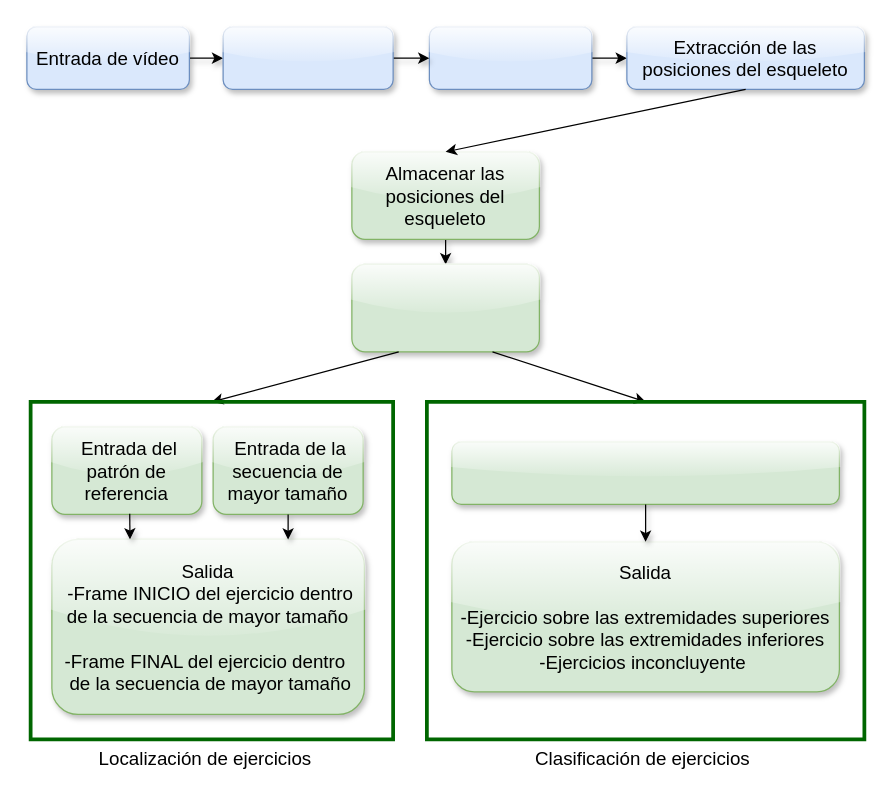
Image size: 894x808. Some labels were removed from this diagram. The shapes that lost their labels are listed below. From the top down, each one's centre as x and y in pixels, then its label:
the point at 309,59: Procesamiento del vídeo
the point at 511,59: Extracción de los frame
the point at 446,309: Analizar las posiciones del esqueleto
the point at 646,474: Entrada de las posiciones del esqueleto
